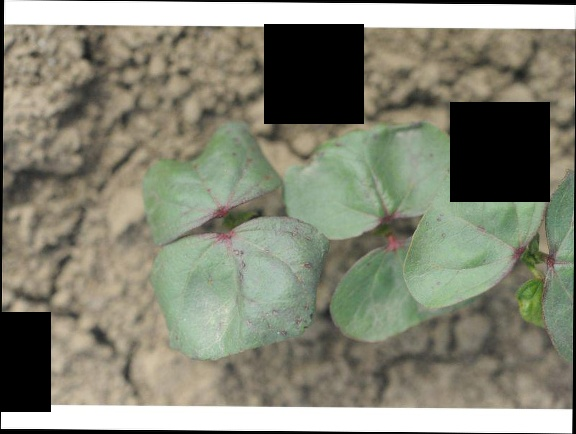cotton: (142, 117, 572, 362)
